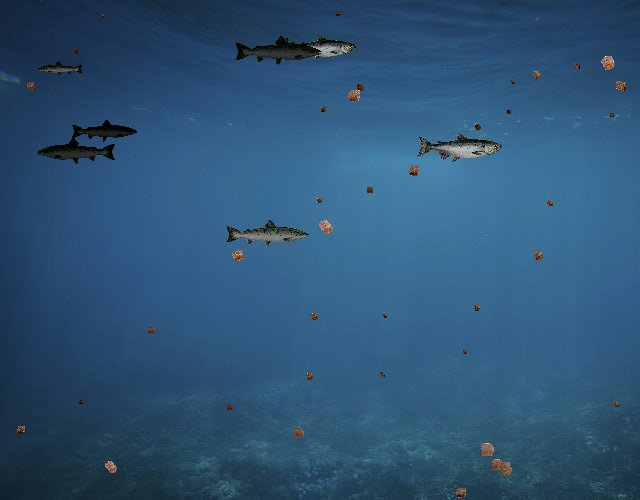Fish: (233, 35, 323, 67), (224, 218, 310, 249), (416, 132, 502, 163), (36, 137, 117, 166), (284, 35, 357, 61), (70, 119, 138, 143), (37, 61, 84, 78)
Pellet: (310, 212, 340, 242), (473, 435, 501, 463), (485, 452, 509, 476), (528, 245, 548, 265), (313, 194, 326, 207), (332, 8, 344, 20), (460, 346, 470, 356)
